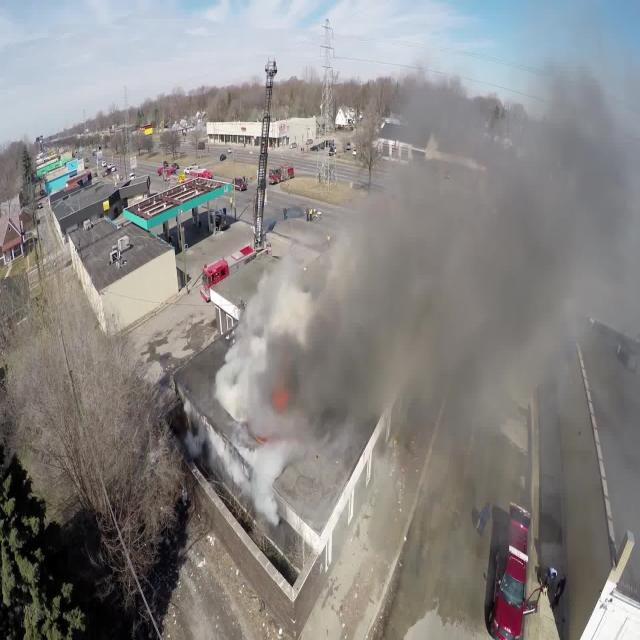Smoke: (223, 90, 631, 442)
